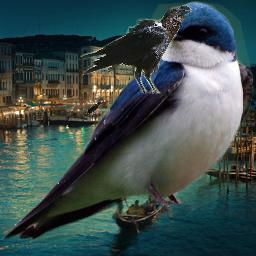Crow: (78, 5, 192, 94), (84, 101, 102, 116)
Swallow: (2, 1, 254, 243)
